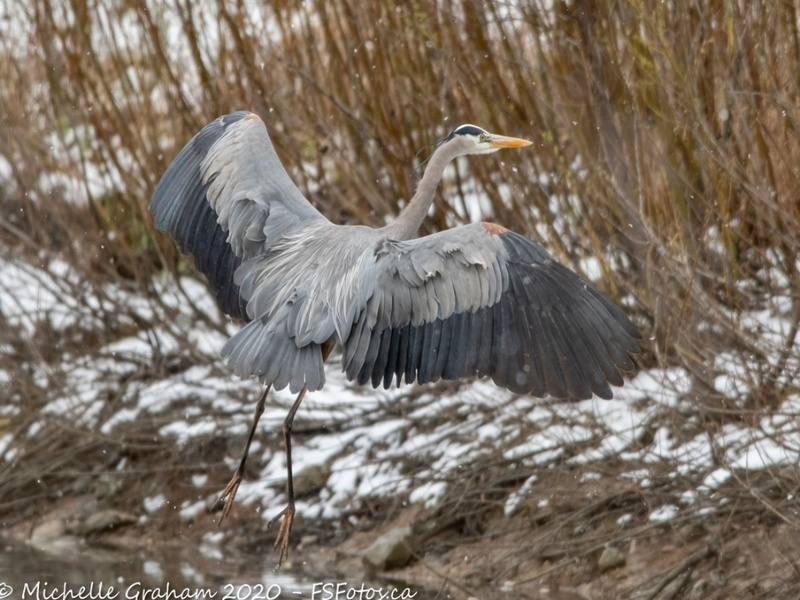heron: (146, 106, 641, 560)
